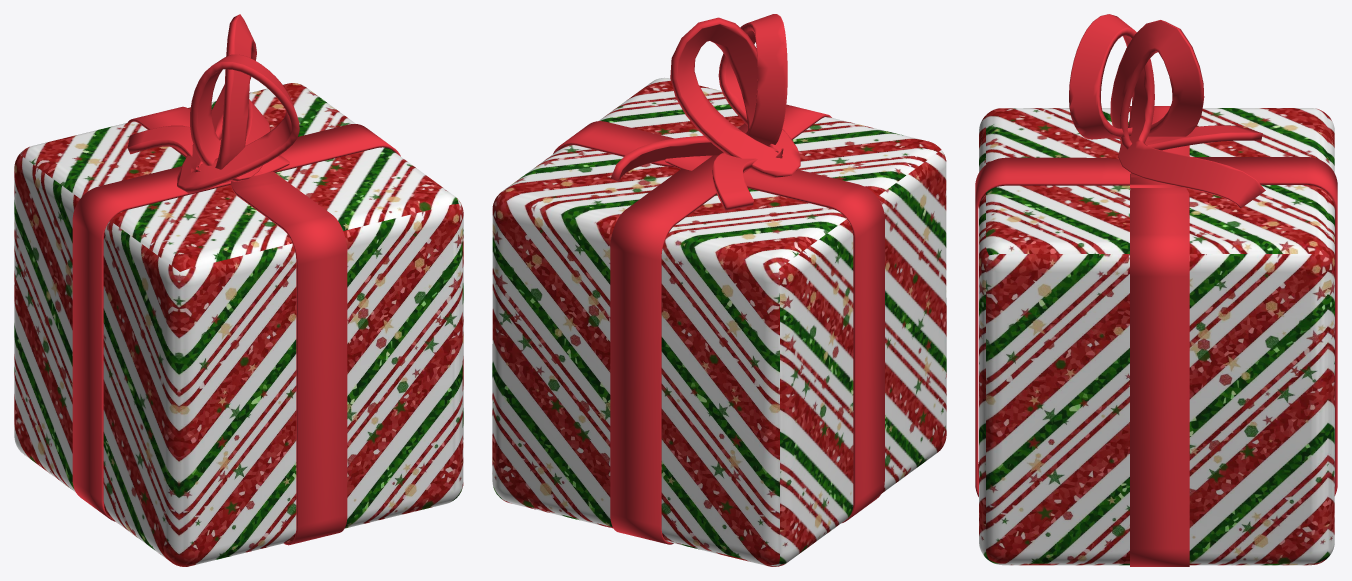
File: try-transformed.glb
3 views of the same model, side by side, from view 1: azimuth 30°, elevation 25°; view 2: azimuth 150°, elevation 25°; view 3: azimuth 270°, elevation 25° (orthographic). The views are drawn at different scales.
Visible parts, largest first — view 1: box, ribbon; view 2: box, ribbon; view 3: box, ribbon.
Part boxes in pixels (left/top/right/bottom): box: left=14, top=83, right=463, bottom=566; ribbon: left=72, top=14, right=400, bottom=545; box: left=492, top=77, right=946, bottom=566; ribbon: left=553, top=14, right=884, bottom=544; box: left=979, top=108, right=1334, bottom=565; ribbon: left=975, top=14, right=1337, bottom=566.
Size of the model in its own units: 2.41 by 3.52 by 2.4.
2 materials, 1 textured.
